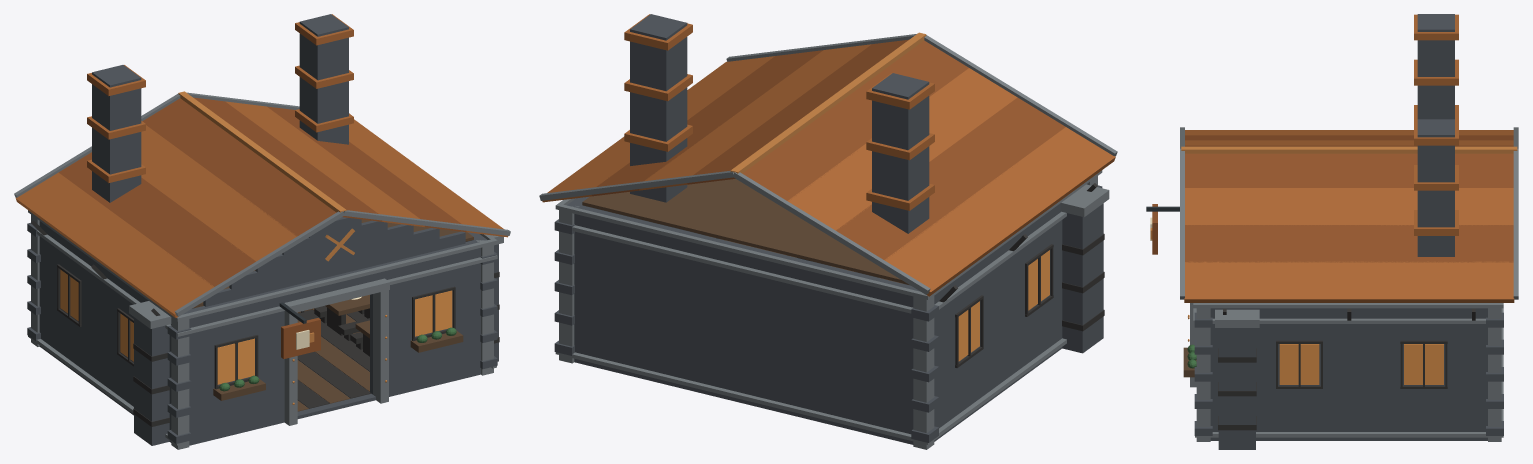
Rendered from Tavern.glb.
The picture shows the model from 3 angles, left to right: view 1: azimuth 30°, elevation 25°; view 2: azimuth 150°, elevation 25°; view 3: azimuth 270°, elevation 25°; orthographic projection. The views are drawn at different scales.
Parts seen in each view (by area): view 1: Tavern_263_ProfileRoof, Tavern_040_FrontWing, Tavern_003_FrontWing, Tavern_002_Side, Tavern_254_ProfileRoof, Tavern_257_ProfileRoof, Tavern_260_ProfileRoof, Tavern_284_ExhaustStack, Tavern_297_ExhaustStack, Tavern_269_ProfileRoof, Tavern_275_ProfileRoof, Tavern_279_FoundryButtress (+37 smaller); view 2: Tavern_001_Rear, Tavern_002_Side, Tavern_263_ProfileRoof, Tavern_095_Ceiling, Tavern_260_ProfileRoof, Tavern_254_ProfileRoof, Tavern_257_ProfileRoof, Tavern_297_ExhaustStack, Tavern_284_ExhaustStack, Tavern_269_ProfileRoof, Tavern_279_FoundryButtress, Tavern_272_ProfileRoof (+21 smaller); view 3: Tavern_039_Side, Tavern_275_ProfileRoof, Tavern_272_ProfileRoof, Tavern_269_ProfileRoof, Tavern_266_ProfileRoof, Tavern_297_ExhaustStack, Tavern_292_FoundryButtress, Tavern_284_ExhaustStack, Tavern_278_Ridge, Tavern_088_SideCourse, Tavern_257_ProfileRoof, Tavern_260_ProfileRoof (+15 smaller).
Boxes of the visible parts, x1,y1,x2,y2 form: Tavern_263_ProfileRoof: [15, 172, 213, 317]; Tavern_040_FrontWing: [370, 237, 487, 395]; Tavern_003_FrontWing: [183, 287, 292, 444]; Tavern_002_Side: [39, 222, 185, 441]; Tavern_254_ProfileRoof: [142, 98, 336, 236]; Tavern_257_ProfileRoof: [141, 125, 297, 261]; Tavern_260_ProfileRoof: [58, 152, 255, 286]; Tavern_284_ExhaustStack: [92, 65, 141, 202]; Tavern_297_ExhaustStack: [299, 14, 348, 144]; Tavern_269_ProfileRoof: [225, 101, 424, 226]; Tavern_275_ProfileRoof: [349, 119, 508, 237]; Tavern_279_FoundryButtress: [134, 317, 169, 445]; Tavern_001_Rear: [573, 205, 919, 444]; Tavern_002_Side: [918, 183, 1087, 440]; Tavern_263_ProfileRoof: [884, 127, 1115, 296]; Tavern_095_Ceiling: [582, 179, 909, 284]; Tavern_260_ProfileRoof: [836, 97, 1065, 260]; Tavern_254_ProfileRoof: [742, 40, 968, 200]; Tavern_257_ProfileRoof: [787, 68, 1017, 230]; Tavern_297_ExhaustStack: [630, 14, 687, 202]; Tavern_284_ExhaustStack: [872, 73, 929, 233]; Tavern_269_ProfileRoof: [639, 44, 871, 190]; Tavern_279_FoundryButtress: [1062, 203, 1103, 353]; Tavern_272_ProfileRoof: [591, 50, 823, 196]; Tavern_039_Side: [1210, 308, 1487, 440]; Tavern_275_ProfileRoof: [1184, 261, 1514, 302]; Tavern_272_ProfileRoof: [1185, 225, 1513, 262]; Tavern_269_ProfileRoof: [1185, 188, 1513, 225]; Tavern_266_ProfileRoof: [1185, 153, 1513, 187]; Tavern_297_ExhaustStack: [1417, 119, 1454, 256]; Tavern_292_FoundryButtress: [1218, 328, 1255, 449]; Tavern_284_ExhaustStack: [1417, 14, 1454, 119]; Tavern_278_Ridge: [1181, 146, 1517, 153]; Tavern_088_SideCourse: [1195, 303, 1503, 308]; Tavern_257_ProfileRoof: [1185, 140, 1513, 145]; Tavern_260_ProfileRoof: [1185, 135, 1513, 140].
Bounding box in the file's own units: 34 × 25.5 × 29.9.
